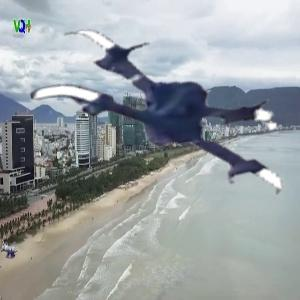drone: (25, 3, 288, 266)
